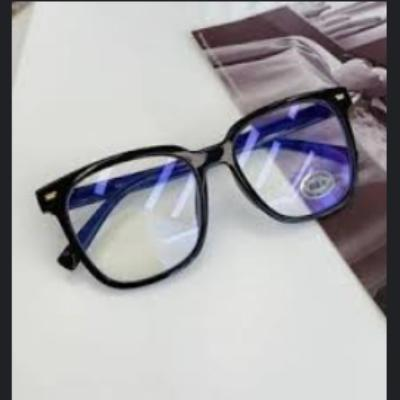glasses: (36, 86, 367, 292)
